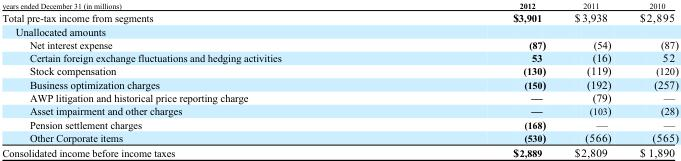table: (1, 0, 677, 158)
table column: (1, 0, 396, 158), (396, 0, 559, 158), (559, 0, 624, 158), (624, 0, 677, 158)
table column header: (1, 0, 677, 10)
table projected row header: (1, 24, 677, 37)
table row: (1, 10, 677, 24), (1, 50, 677, 64), (1, 103, 677, 117), (1, 130, 677, 144), (1, 144, 677, 158), (1, 24, 677, 37), (1, 37, 677, 50), (1, 64, 677, 77), (1, 77, 677, 90), (1, 90, 677, 103), (1, 117, 677, 130), (1, 0, 677, 10)
